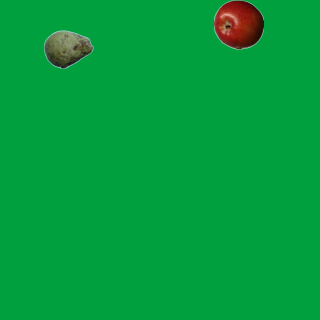Apple Braeburn: (213, 0, 263, 49)
Pear Stone: (43, 24, 93, 74)
